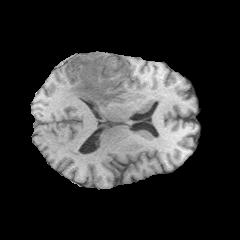glioma: (68, 53, 130, 108)
